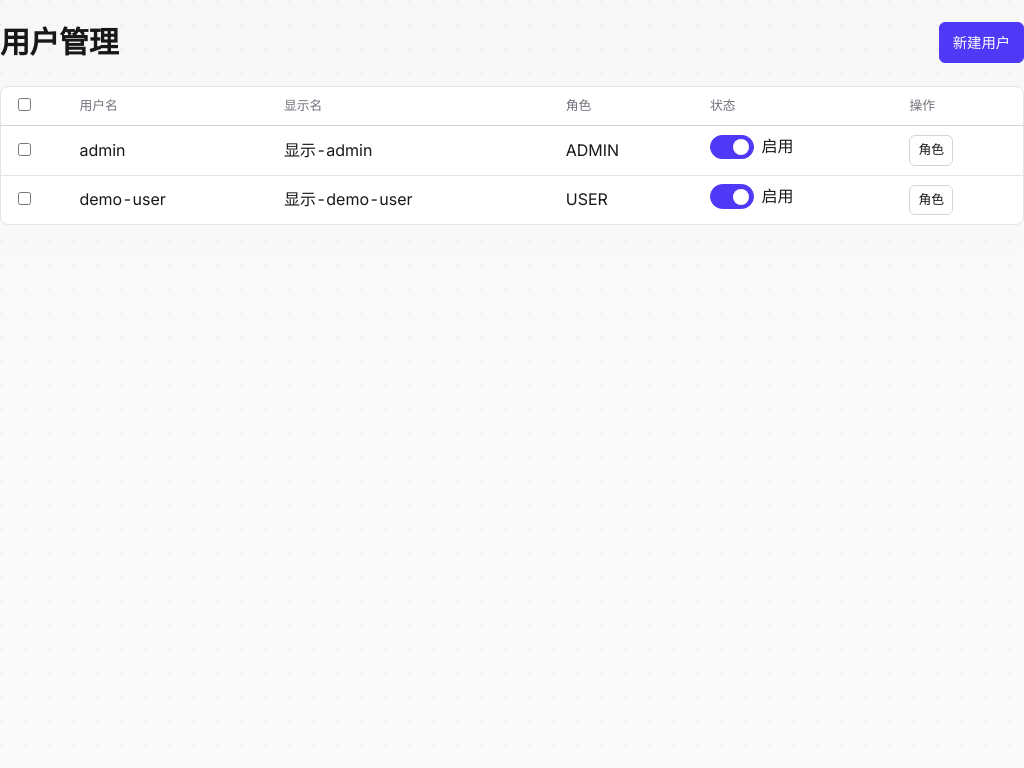
Scenario: UsersView 批量停用流程（P24，FR-AUTH-05） › 勾选两人→批量停用→危险确认→单请求提交并清选
Click the checkbox with test id "select-user-1".
click(24, 149)  # box [18,143,31,156]
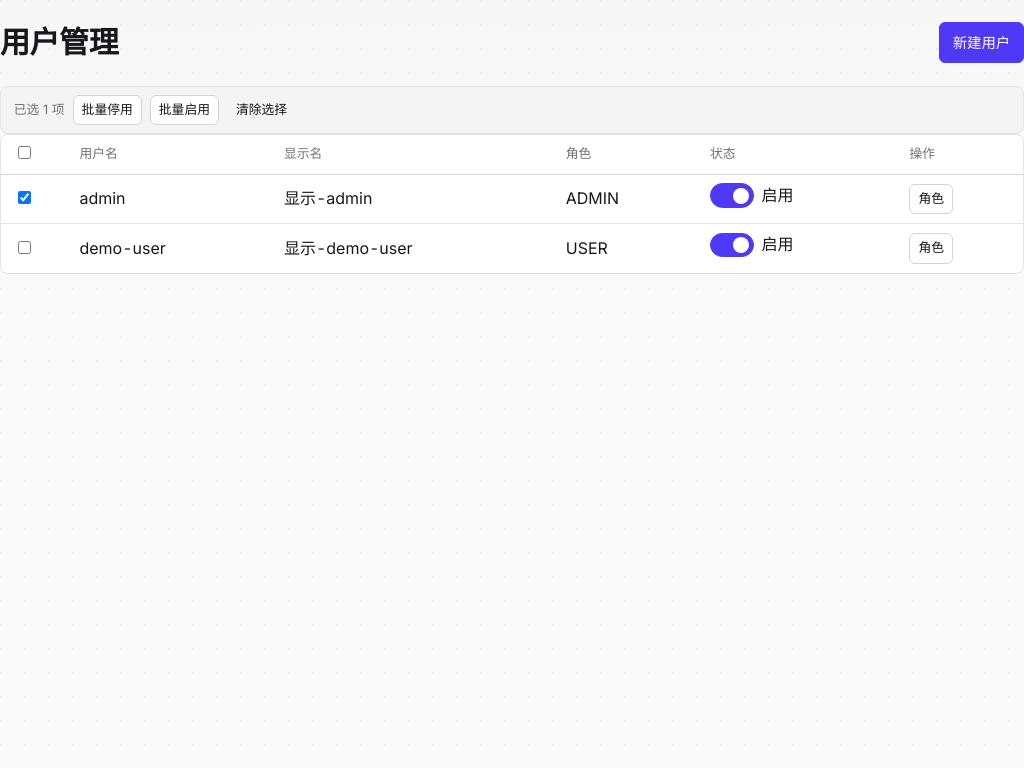
Click the checkbox with test id "select-user-2".
click(24, 247)  # box [18,241,31,254]
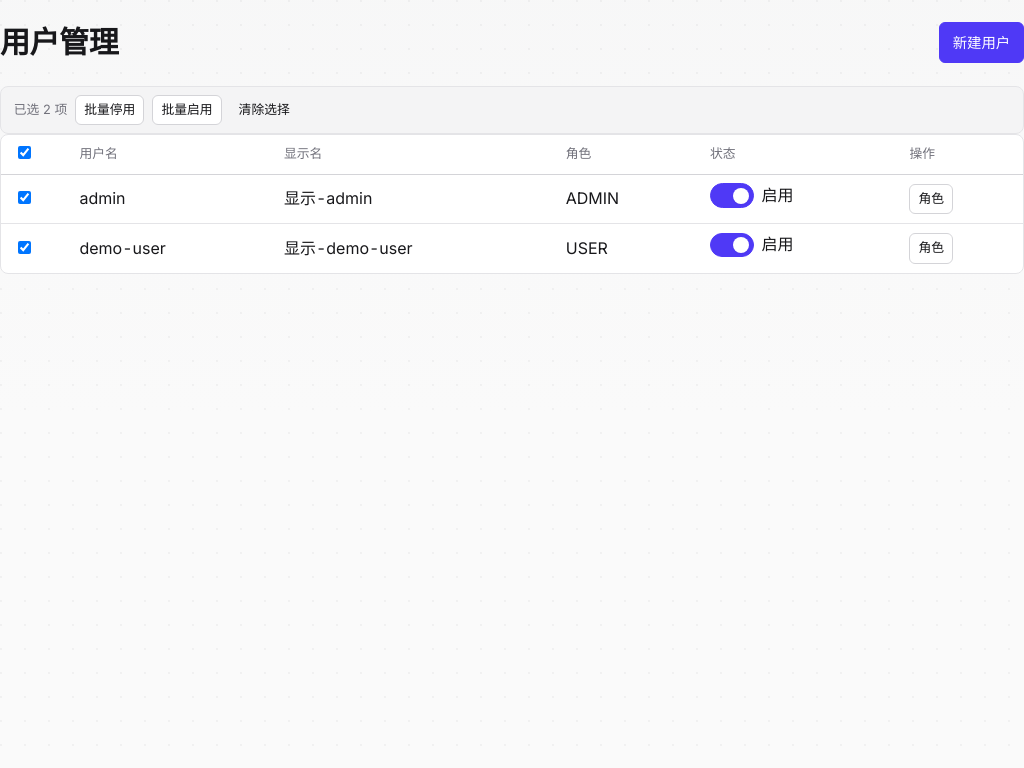
Check: the element with test id "user-batch-bar" shows "已选 2 项", box [14,102,67,117]
Click the button with test id "batch-block".
click(110, 110)  # box [75,95,144,125]
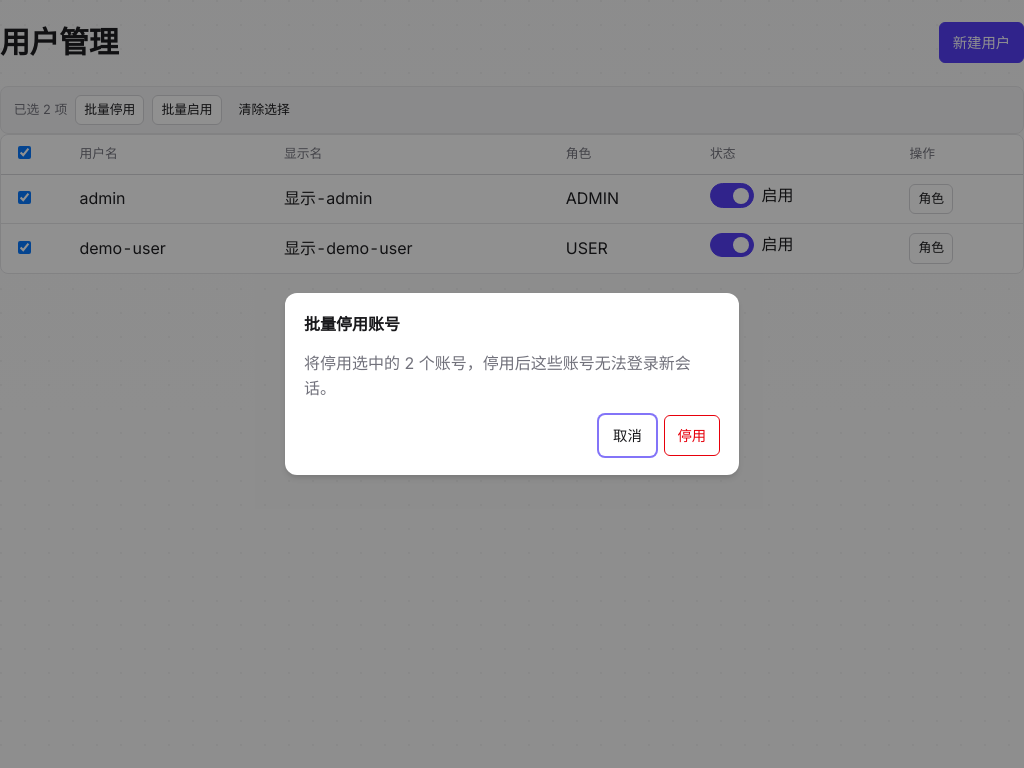
Check: the dialog shows "停用选中的 2 个账号", box [304,353,691,398]
Click the button with test id "confirm-submit".
click(692, 435)  # box [664,415,720,456]
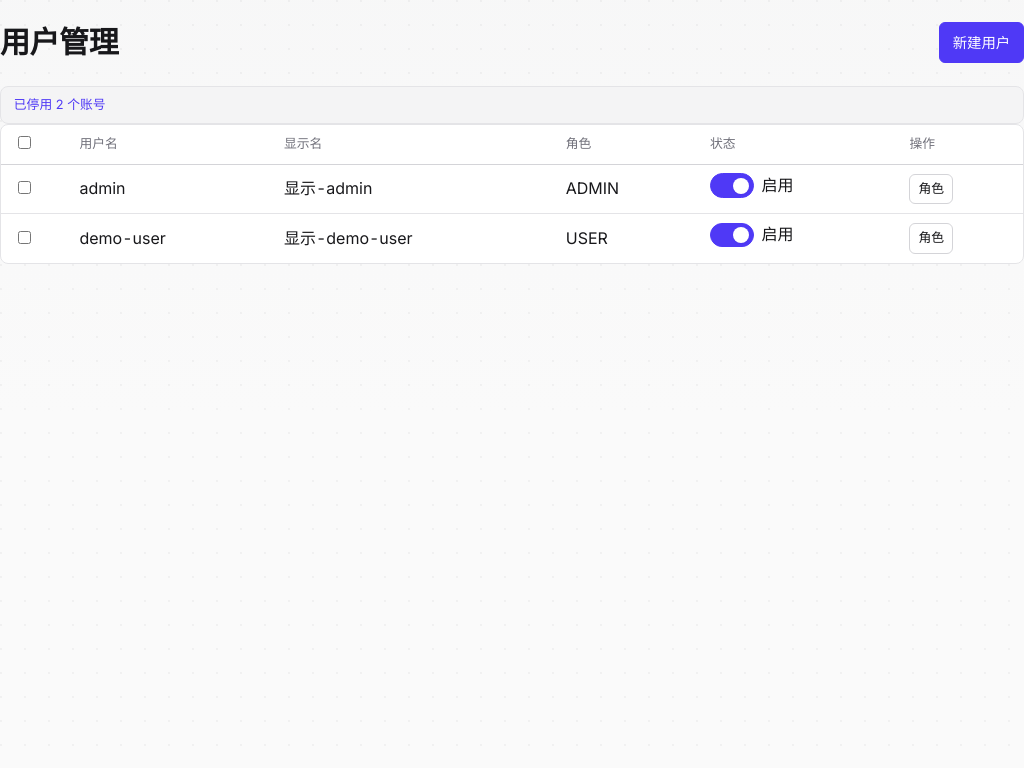
Check: the element with test id "user-batch-bar" reads "已停用 2 个账号", box [14,97,106,112]
Check: the text with test id "user-batch-bar" no longer shows "已选"
